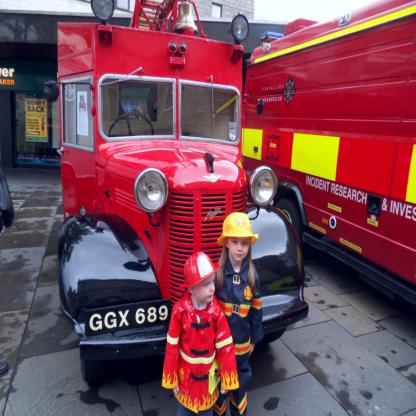Truck: (43, 0, 309, 382), (242, 0, 415, 307)
